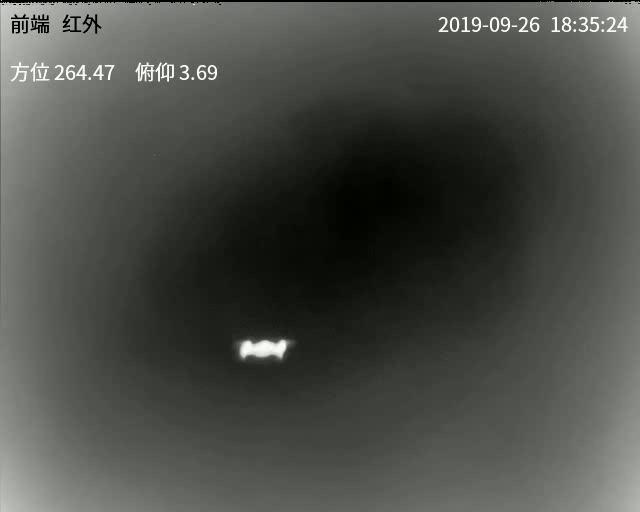DRONE: (236, 336, 288, 360)
